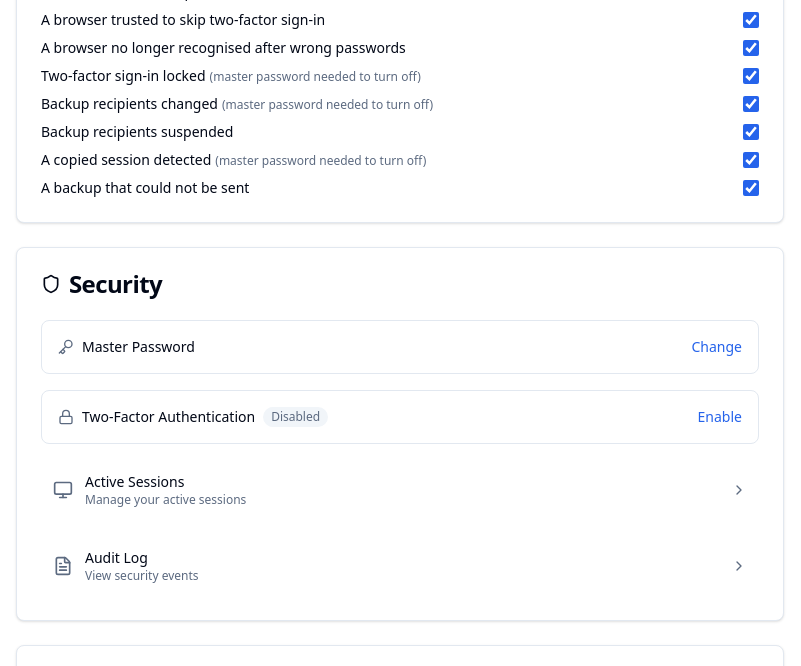
Test: SettingsPage › reveals the change password form when Change is clicked
The width and height of the screenshot is (801, 666).
(page scrolled)
Check: the text "Master Password" is shown, box [82,337,195,357]
Click the button "Change": coordinates (717, 347) [692,337,742,357]
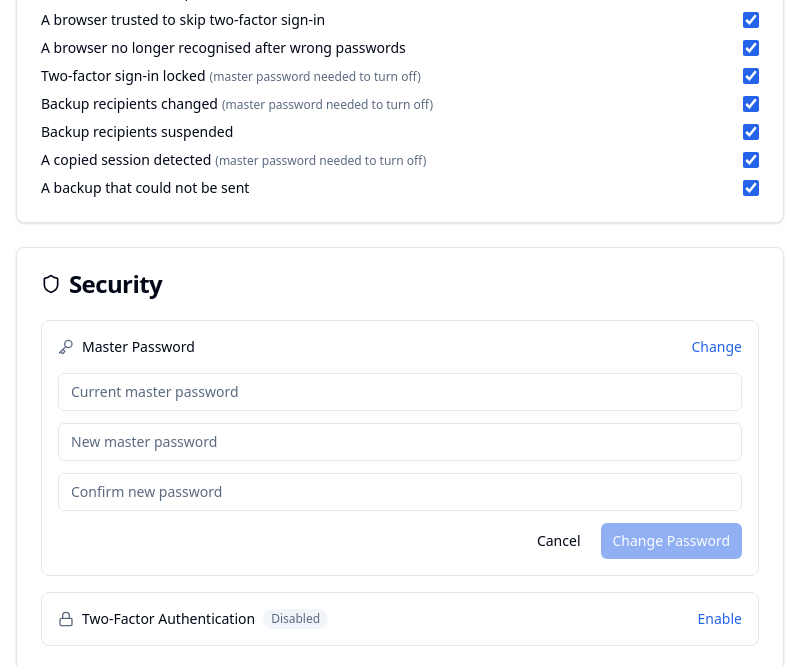
Check: the password field with placeholder "Current master password" is shown, box [58,373,742,411]
Check: the password field with placeholder "New master password" is shown, box [58,423,742,461]
Check: the password field with placeholder "Confirm new password" is shown, box [58,473,742,511]
